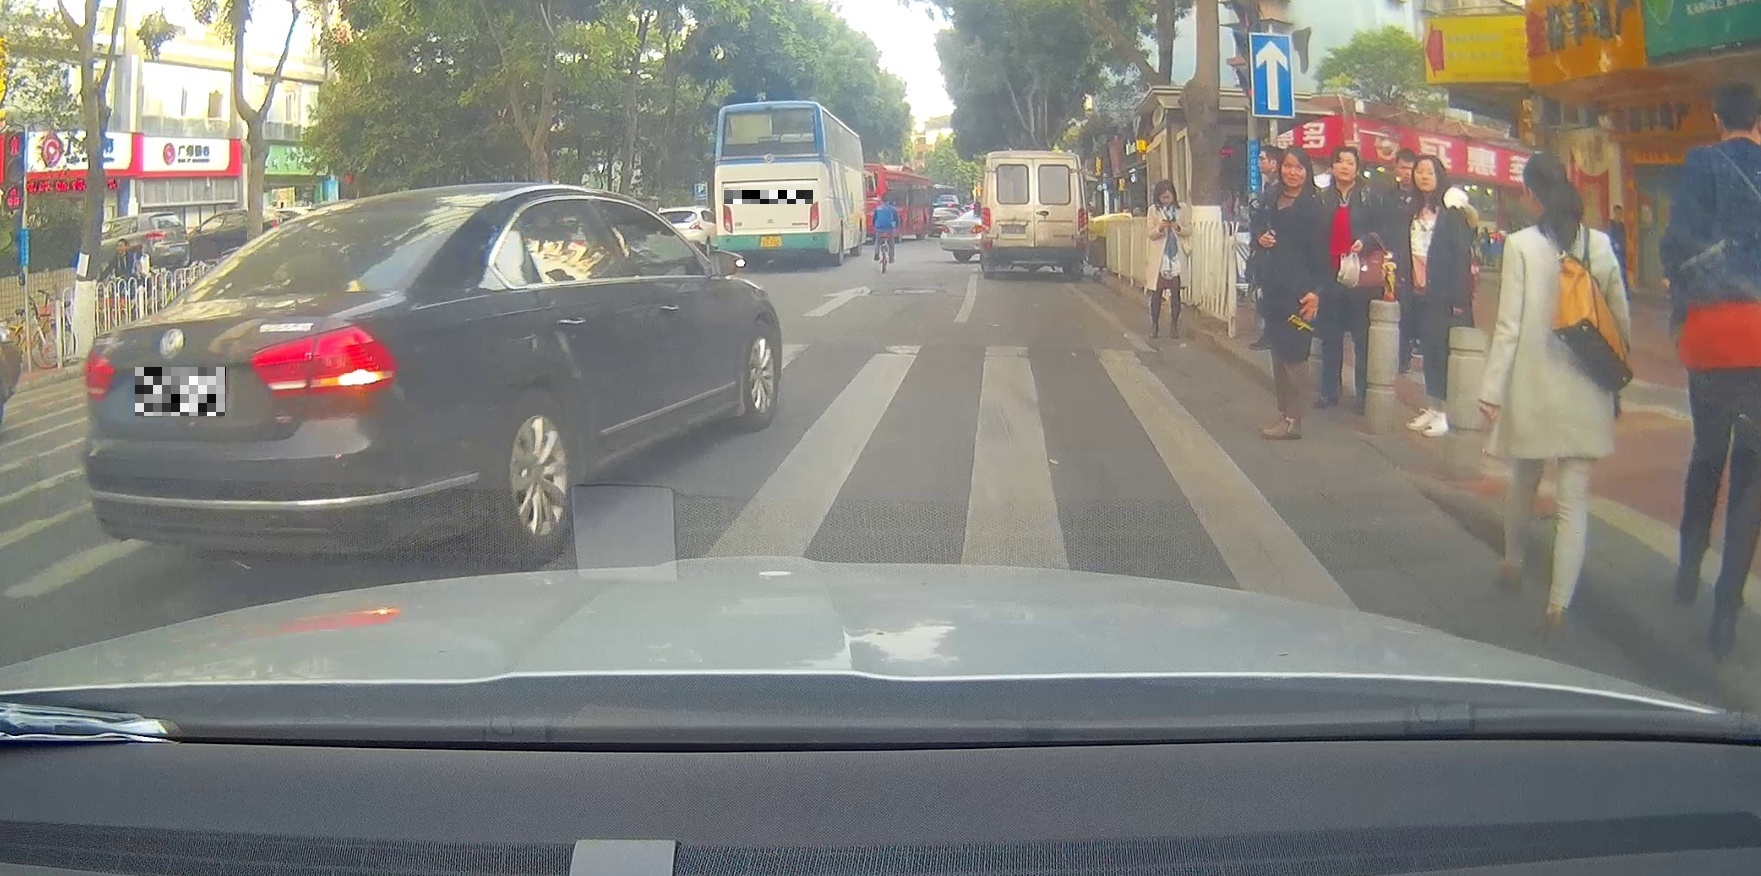L_light: (81, 353, 115, 396)
R_light: (247, 325, 396, 400)
T_light: (341, 208, 398, 221)
day-right: (80, 184, 480, 569)
plate_1: (135, 367, 226, 416)
plate_2: (724, 190, 813, 204)
